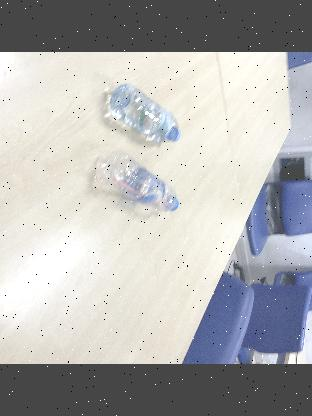Plastic Bottle: (95, 152, 180, 214), (110, 84, 181, 144)
